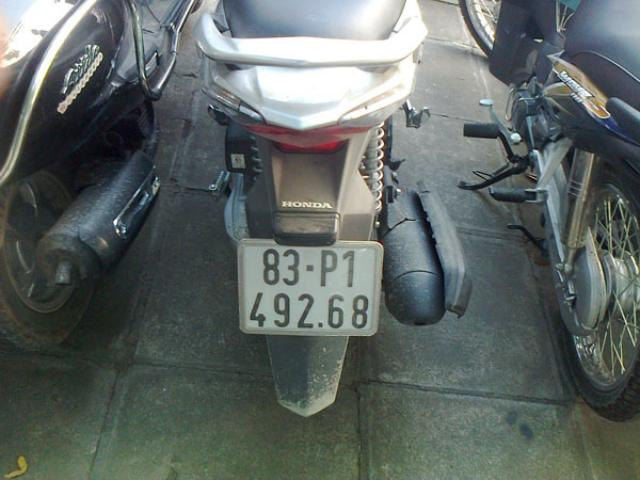plate: (236, 234, 384, 338)
